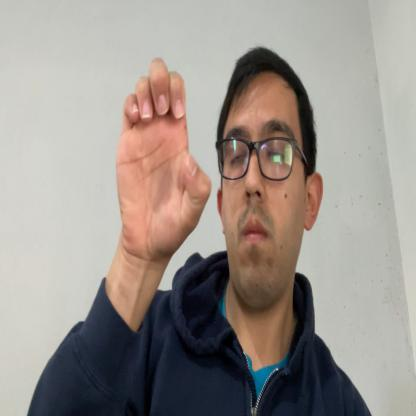E: (115, 56, 210, 254)
